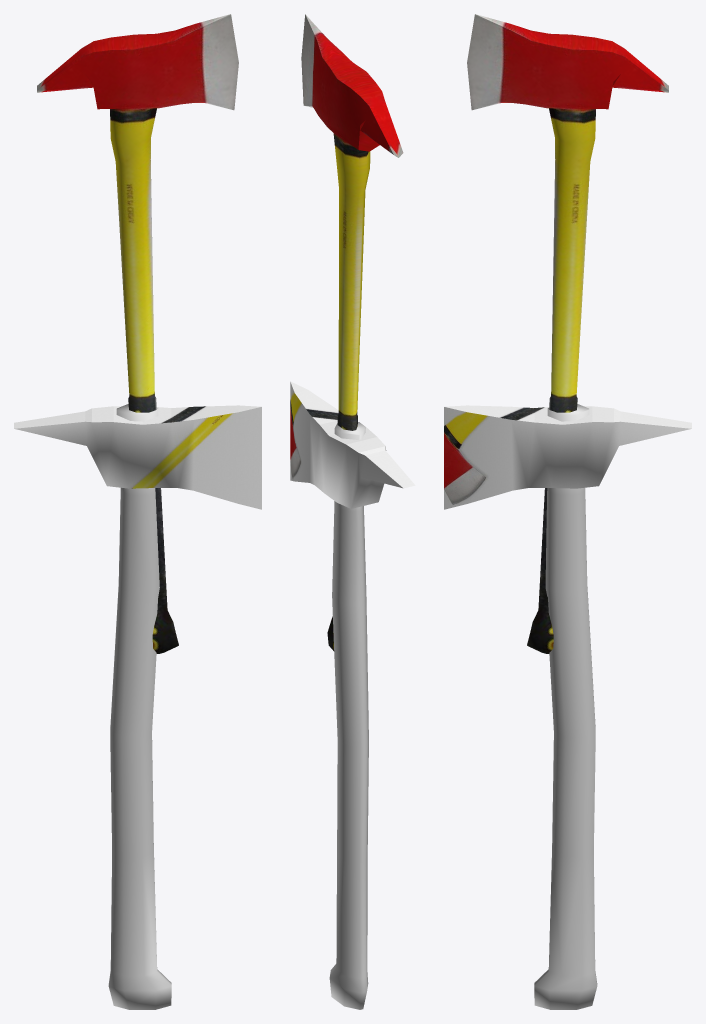
File: Axe.fbx
3 renders of one model, left to right at view 1: azimuth 90°, elevation 25°; view 2: azimuth 210°, elevation 25°; view 3: azimuth 270°, elevation 25°, orthographic. The views are drawn at different scales.
Parts seen in each view (by area): view 1: FIREAXE, 큐브, Cube; view 2: 큐브, FIREAXE, Cube; view 3: FIREAXE, 큐브, Cube.
Part boxes in pixels (x1,y1,x2,y2): FIREAXE: [37, 14, 238, 653]; 큐브: [108, 404, 171, 1009]; Cube: [14, 405, 261, 509]; 큐브: [329, 422, 368, 1009]; FIREAXE: [301, 14, 403, 651]; Cube: [290, 381, 415, 508]; FIREAXE: [467, 14, 668, 653]; 큐브: [534, 404, 597, 1009]; Cube: [444, 405, 691, 509].
Bounding box in the file's own units: 101 × 2484 × 563.
